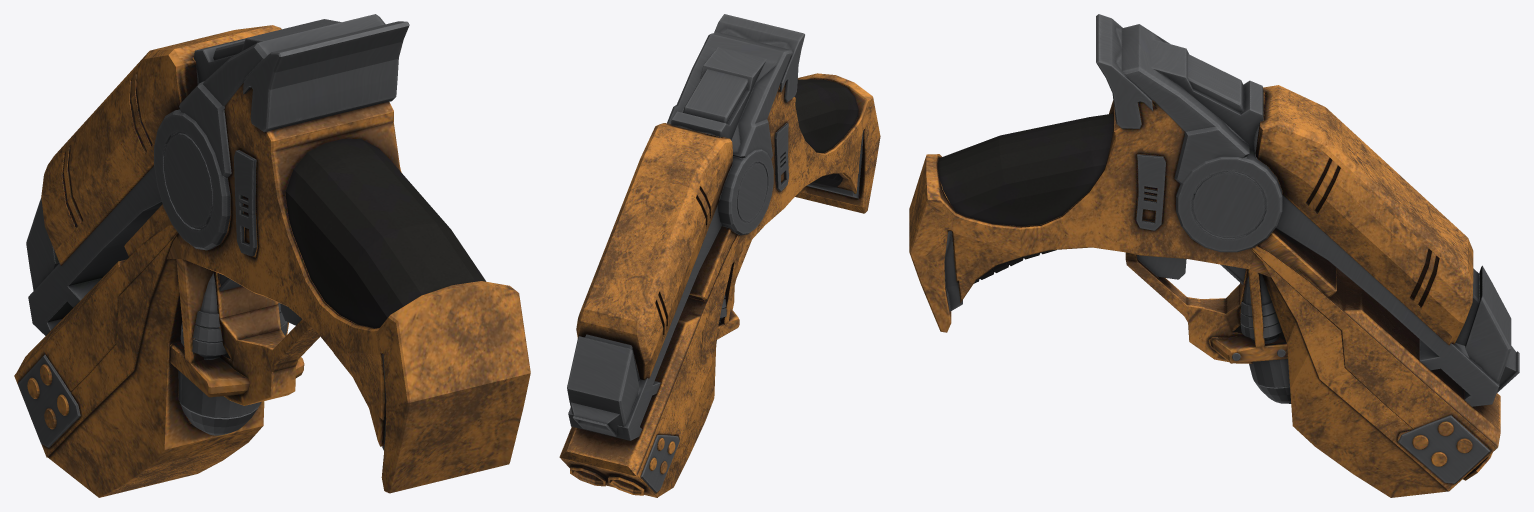
File: SpaceGun.fbx
3 views of the same model, side by side, from view 1: azimuth 30°, elevation 25°; view 2: azimuth 150°, elevation 25°; view 3: azimuth 270°, elevation 25° (orthographic). The views are drawn at different scales.
Visible parts, largest first — view 1: group3; view 2: group3; view 3: group3.
Boxes of the visible parts, x1,y1,x2,y2 form: group3: [14, 14, 530, 497]; group3: [559, 14, 880, 497]; group3: [909, 14, 1519, 497].
Size of the model in its own units: 3.93 by 16.2 by 20.25.
Materials: 1 (1 with a texture image).
